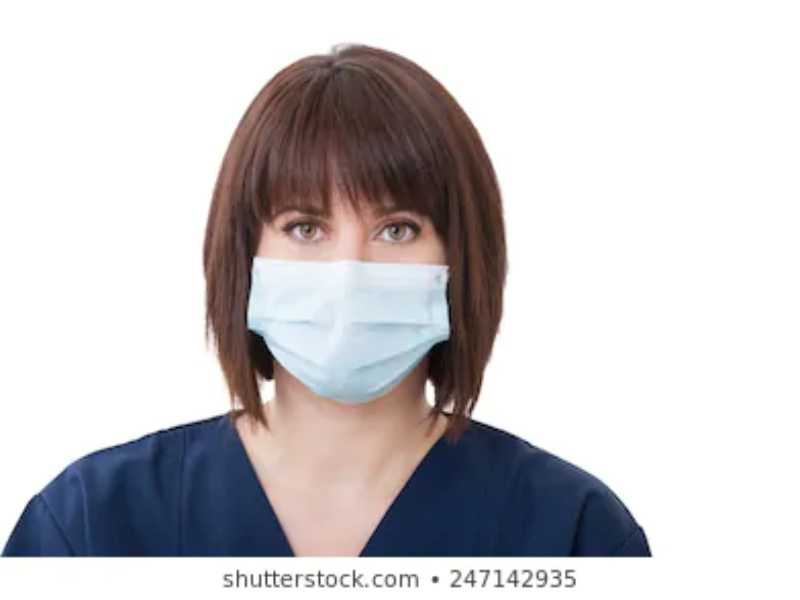ManaoArotava: (201, 62, 477, 435)
